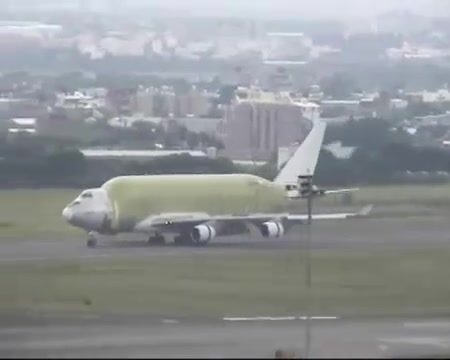aeroplane: (60, 121, 375, 249)
